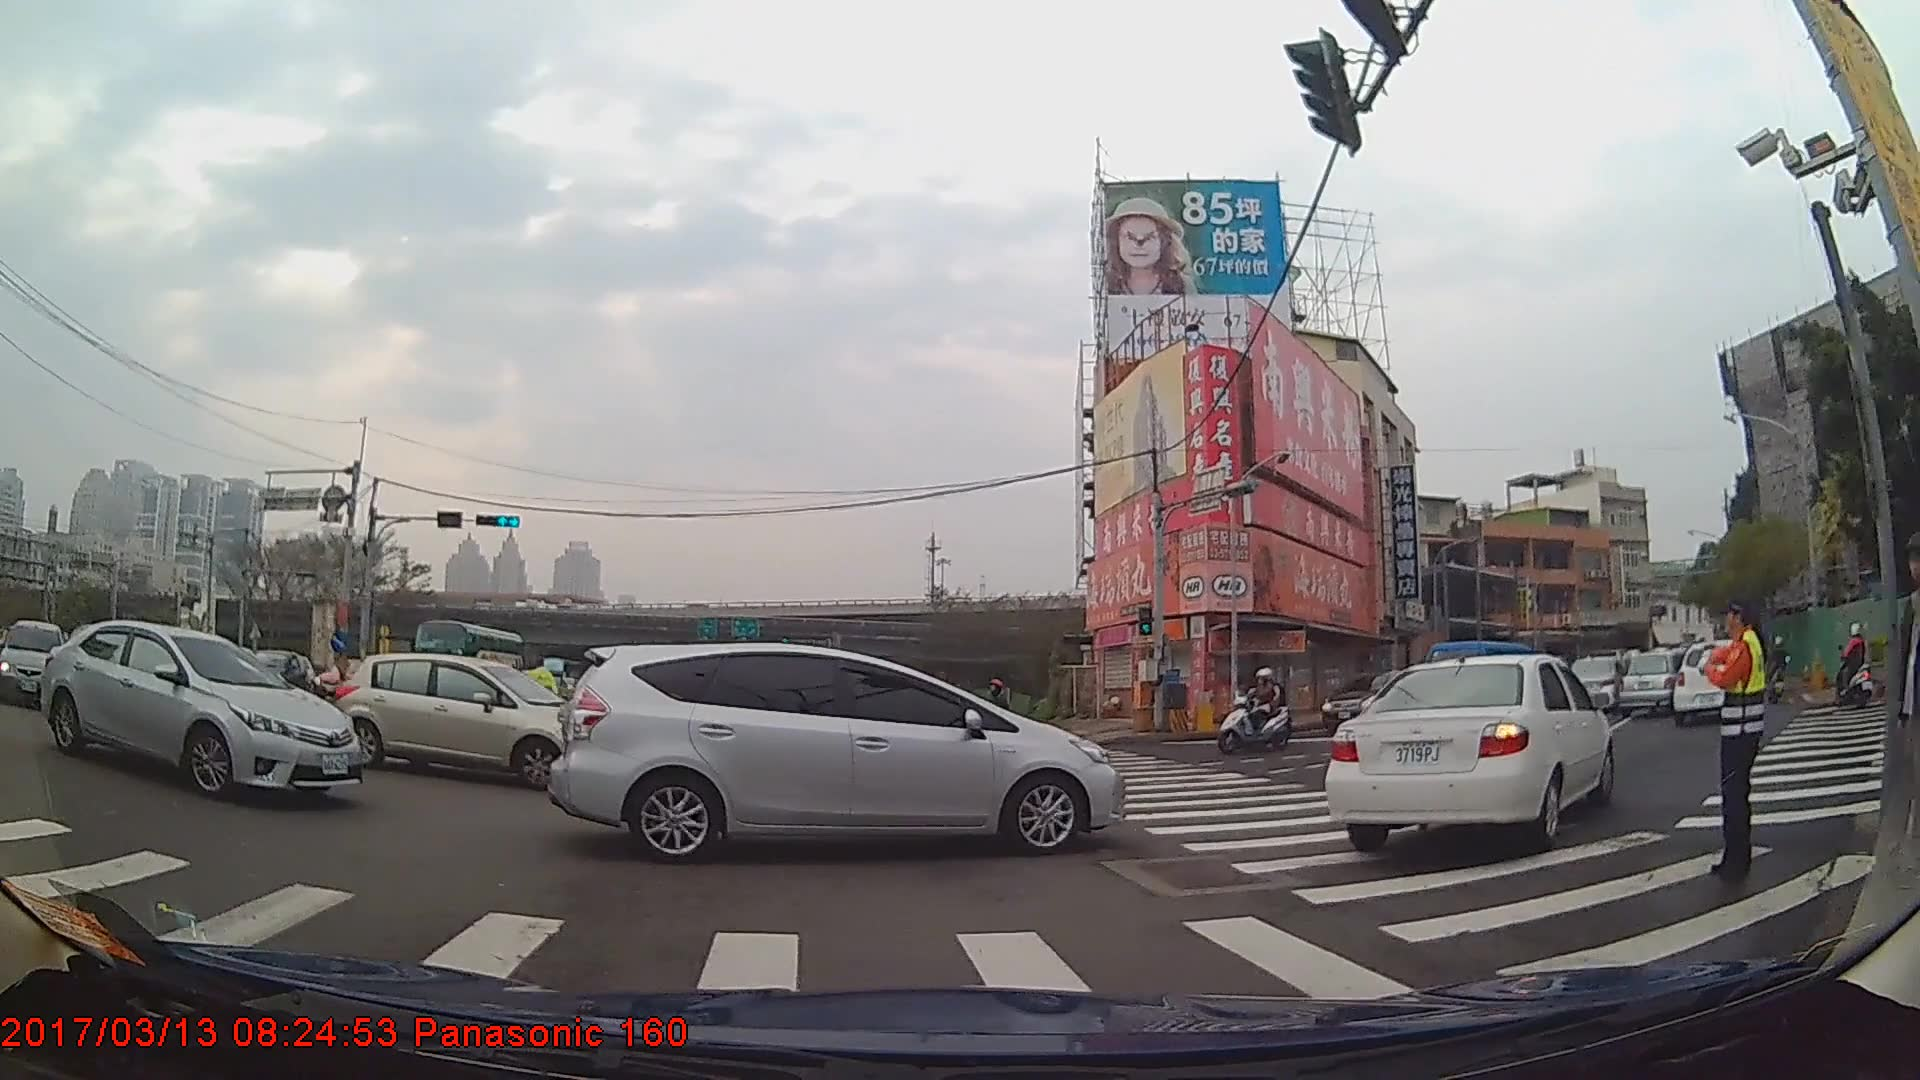pedestrian: (1699, 587, 1771, 881)
rider: (1219, 666, 1294, 754), (1833, 622, 1878, 706), (1767, 637, 1790, 703)
vehicle: (544, 641, 1124, 862), (33, 620, 362, 804), (1322, 648, 1616, 855), (329, 651, 598, 788), (412, 619, 524, 701), (1671, 636, 1753, 729), (0, 618, 67, 706), (1321, 669, 1418, 729), (1615, 647, 1689, 717)
